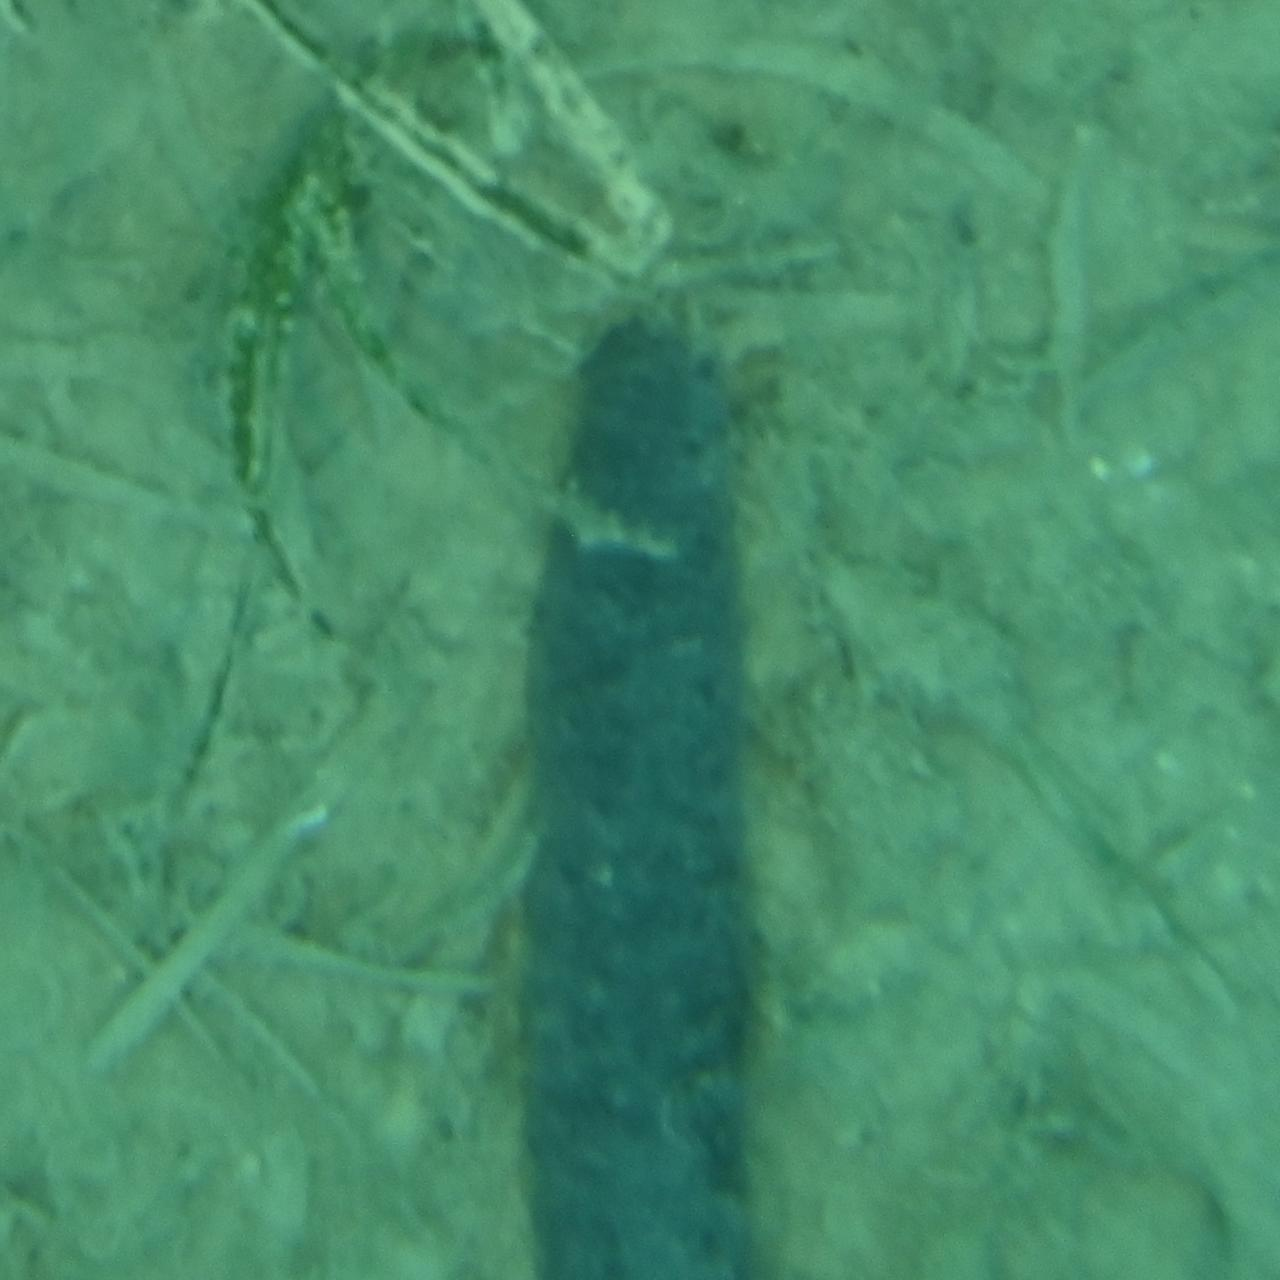Holothuria tubulosa: (510, 311, 770, 1279)
